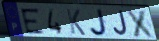4: (47, 9, 64, 36)
E: (19, 7, 46, 35)
J: (89, 8, 110, 38), (112, 10, 129, 37)
K: (65, 8, 87, 36)
X: (125, 9, 157, 40)
